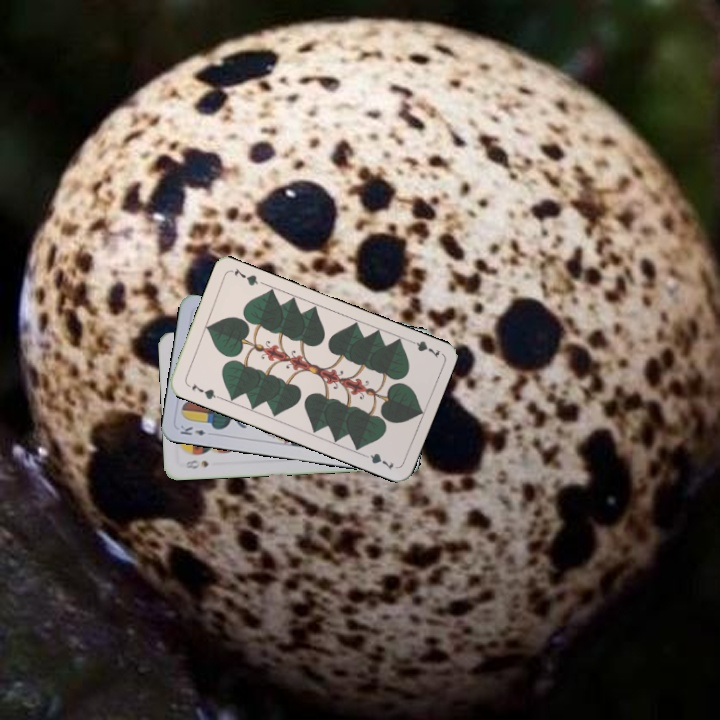EK: (176, 421, 208, 438)
G7: (403, 335, 443, 361), (188, 379, 222, 402)
S8: (182, 456, 211, 471)
